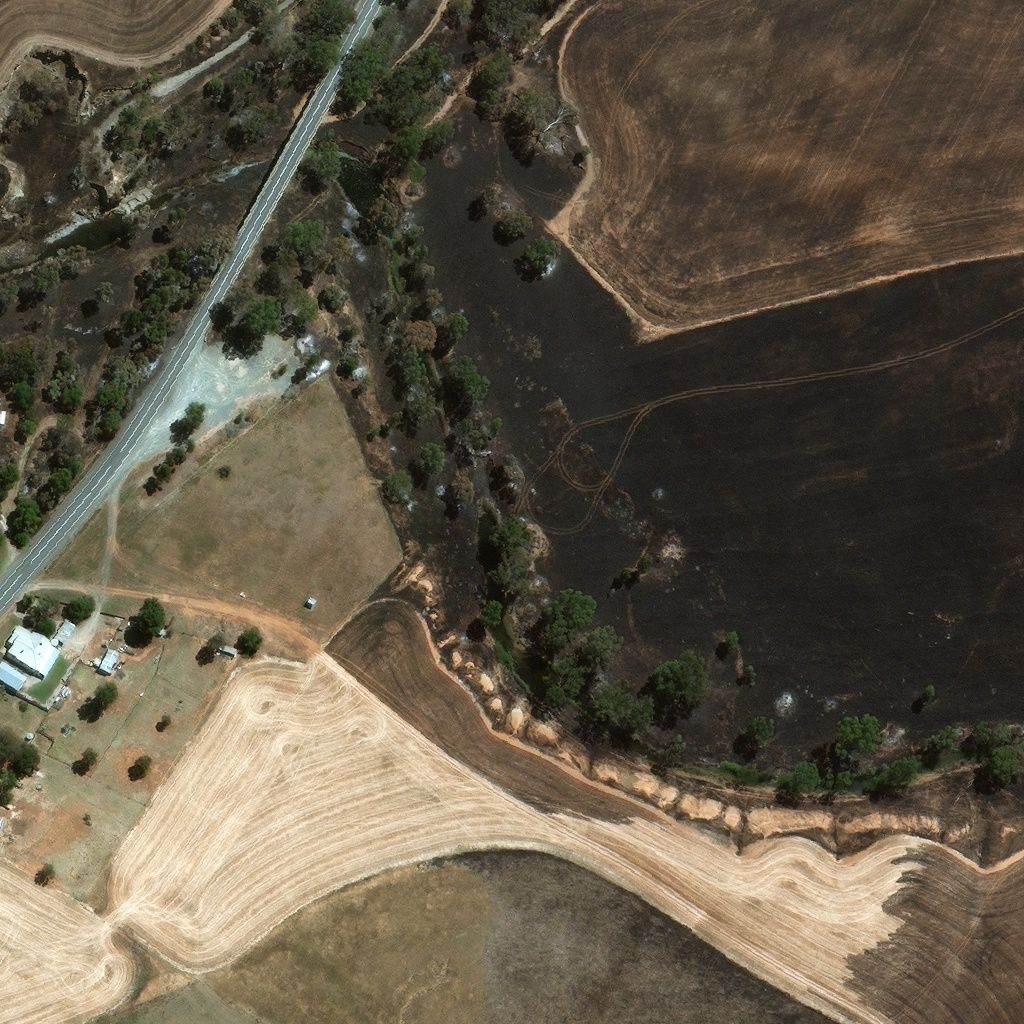0 no-damage: (12, 630, 71, 684), (0, 668, 35, 697), (100, 654, 127, 681), (60, 625, 85, 652), (226, 651, 244, 663), (0, 417, 12, 431), (310, 603, 322, 614), (161, 632, 173, 643)
4 un-classified: (33, 738, 42, 747)
